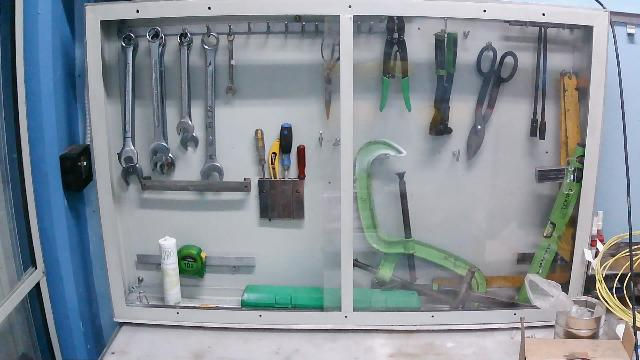kunci_pass_13: (222, 22, 248, 98)
